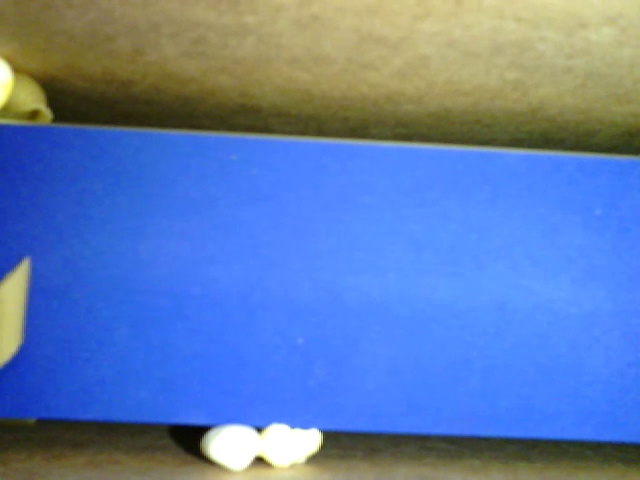penne: (3, 255, 31, 373)
shell: (2, 69, 55, 126)
